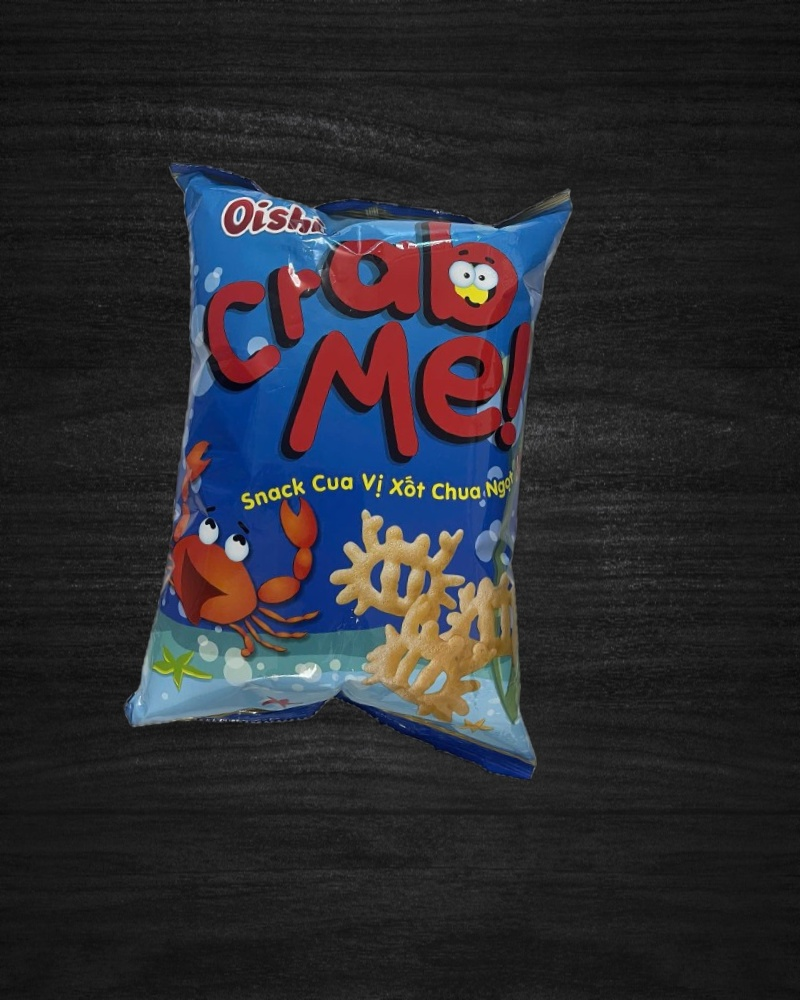Snack cua: (120, 154, 587, 775)
